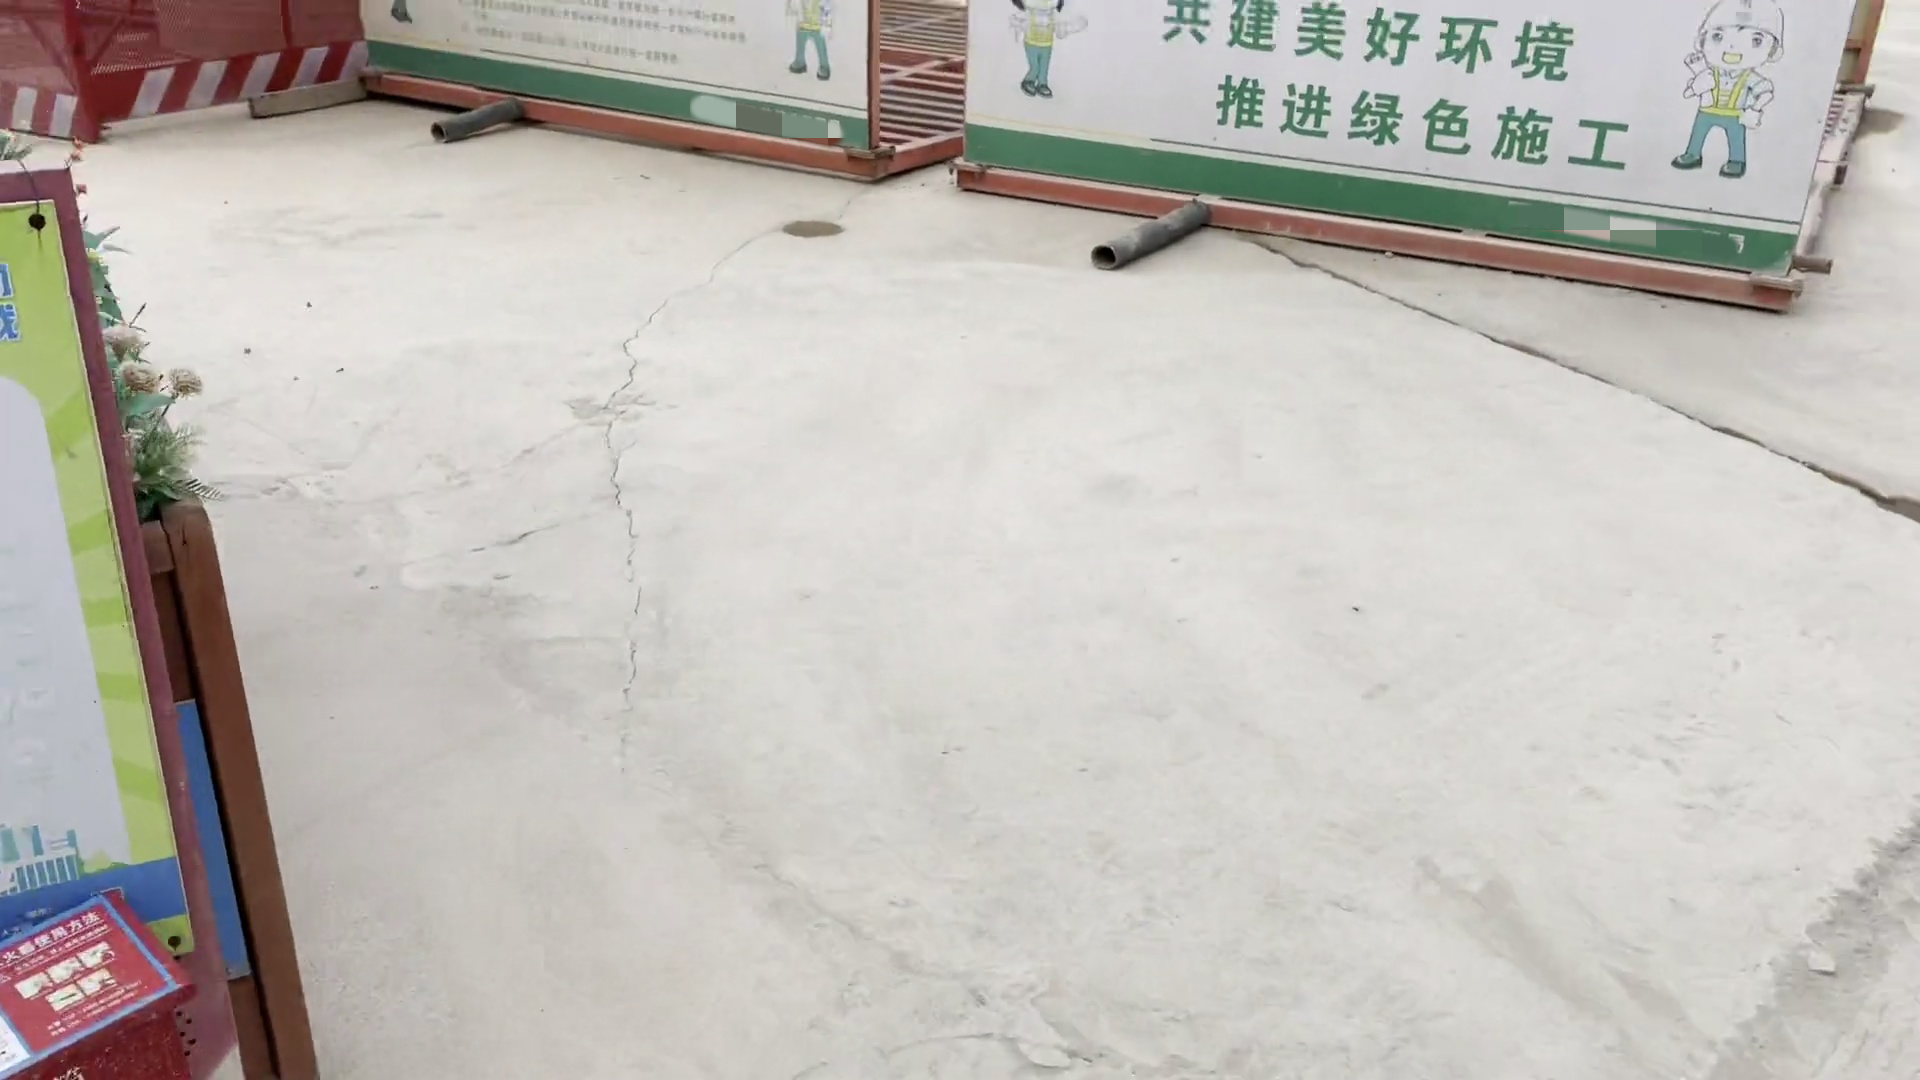slogan: (1010, 1, 1662, 189)
